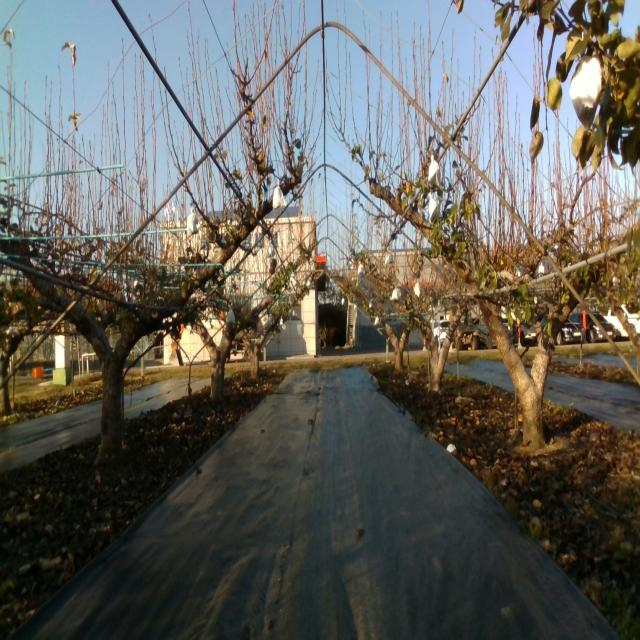pearbags: (570, 54, 602, 128), (186, 209, 201, 238), (428, 155, 441, 188), (272, 185, 286, 209), (429, 192, 439, 222)
